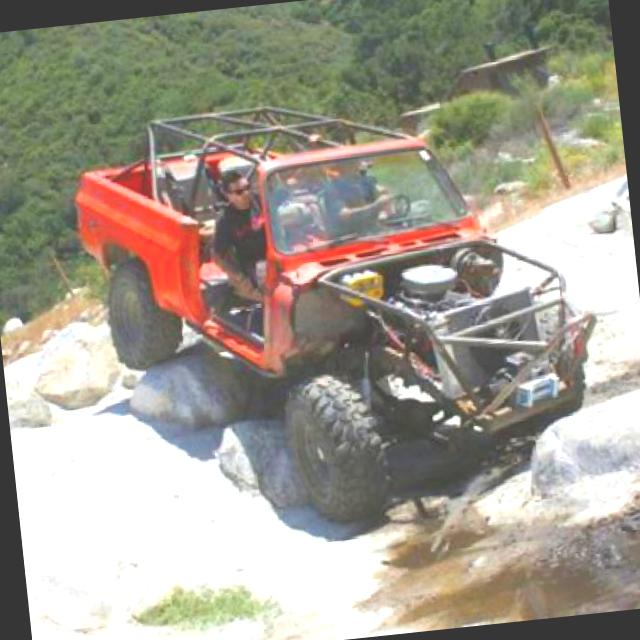Person: (202, 164, 291, 304), (320, 153, 386, 239)
